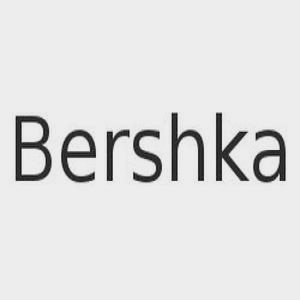bershka: (285, 57, 295, 170)
